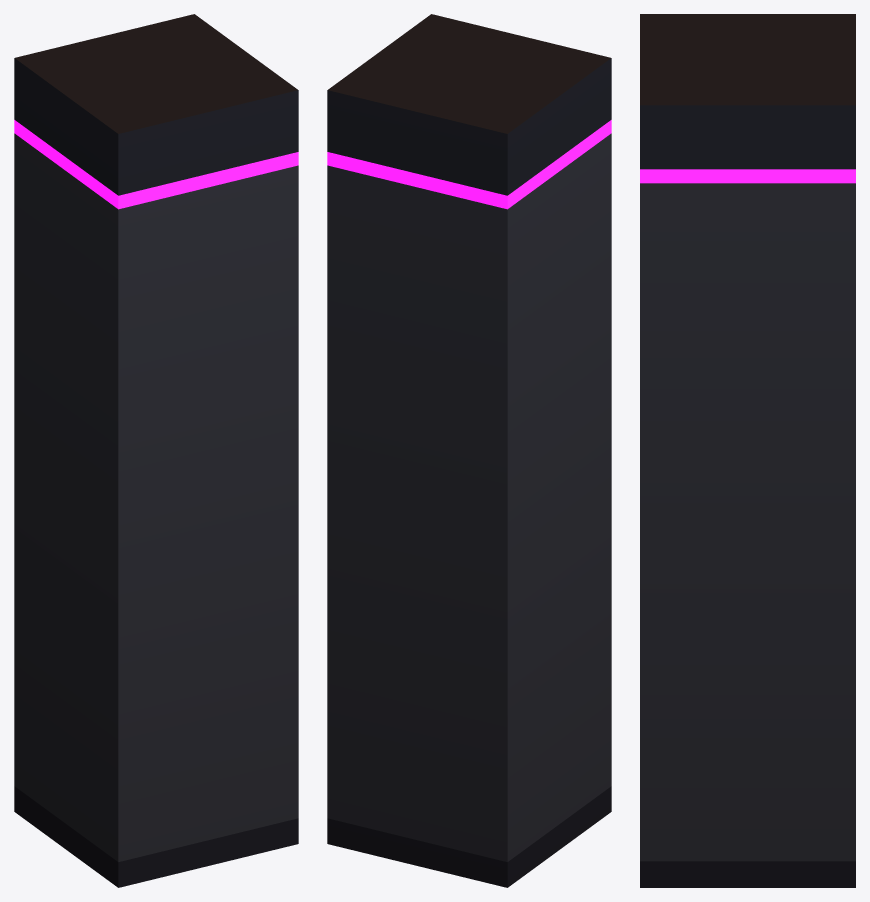
The model's file is Wall3One.fbx.
3 renders of one model, left to right at view 1: azimuth 30°, elevation 25°; view 2: azimuth 150°, elevation 25°; view 3: azimuth 270°, elevation 25°, orthographic. The views are drawn at different scales.
Parts seen in each view (by area): view 1: Wall3One; view 2: Wall3One; view 3: Wall3One.
Part boxes in pixels (left/top/right/bottom): Wall3One: left=14, top=14, right=298, bottom=887; Wall3One: left=327, top=14, right=611, bottom=887; Wall3One: left=640, top=14, right=855, bottom=887.
Size of the model in its own units: 100 by 400 by 100.
